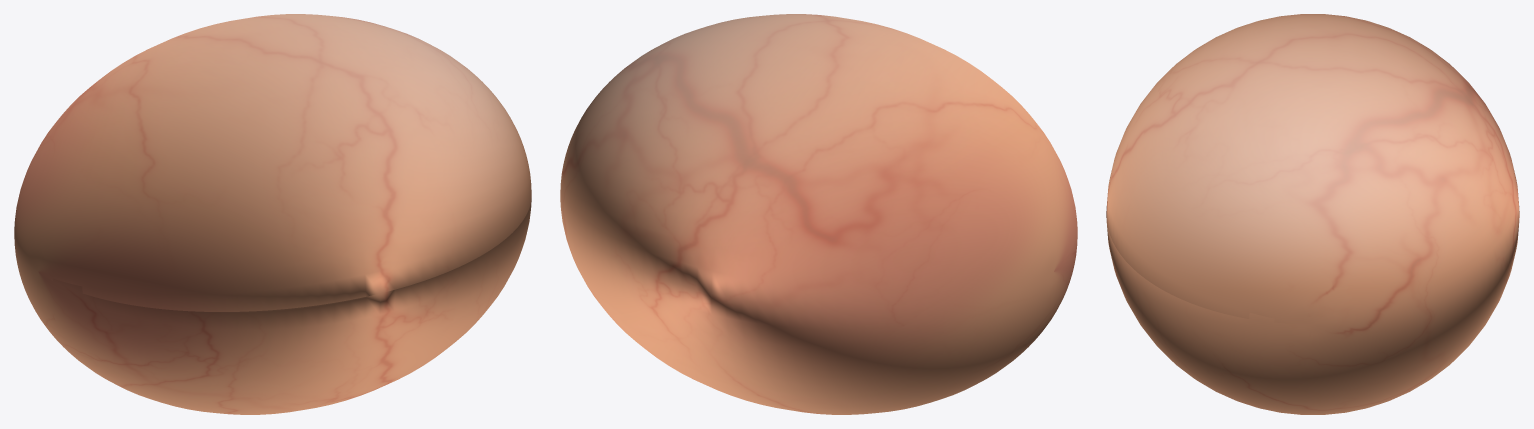
The picture shows the model from 3 angles, left to right: view 1: azimuth 30°, elevation 25°; view 2: azimuth 150°, elevation 25°; view 3: azimuth 270°, elevation 25°; orthographic projection. The views are drawn at different scales.
Parts seen in each view (by area): view 1: default; view 2: default; view 3: default.
Boxes of the visible parts, left/top/right/bottom form: default: left=14, top=14, right=531, bottom=414; default: left=560, top=14, right=1077, bottom=414; default: left=1106, top=14, right=1519, bottom=414.
Bounding box in the file's own units: 0.0361 × 0.0257 × 0.0287.
8 materials, 8 textured.
